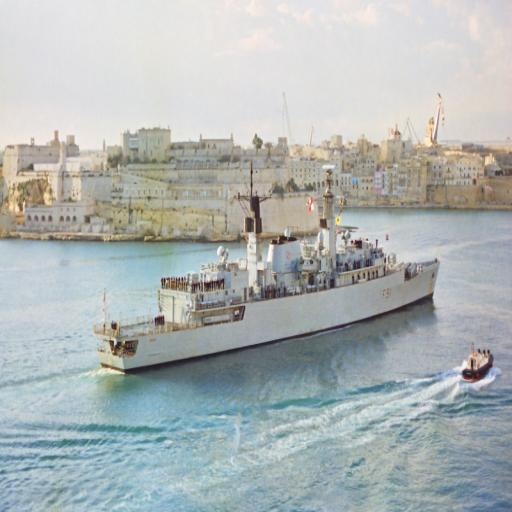Fragata: (94, 159, 443, 379)
